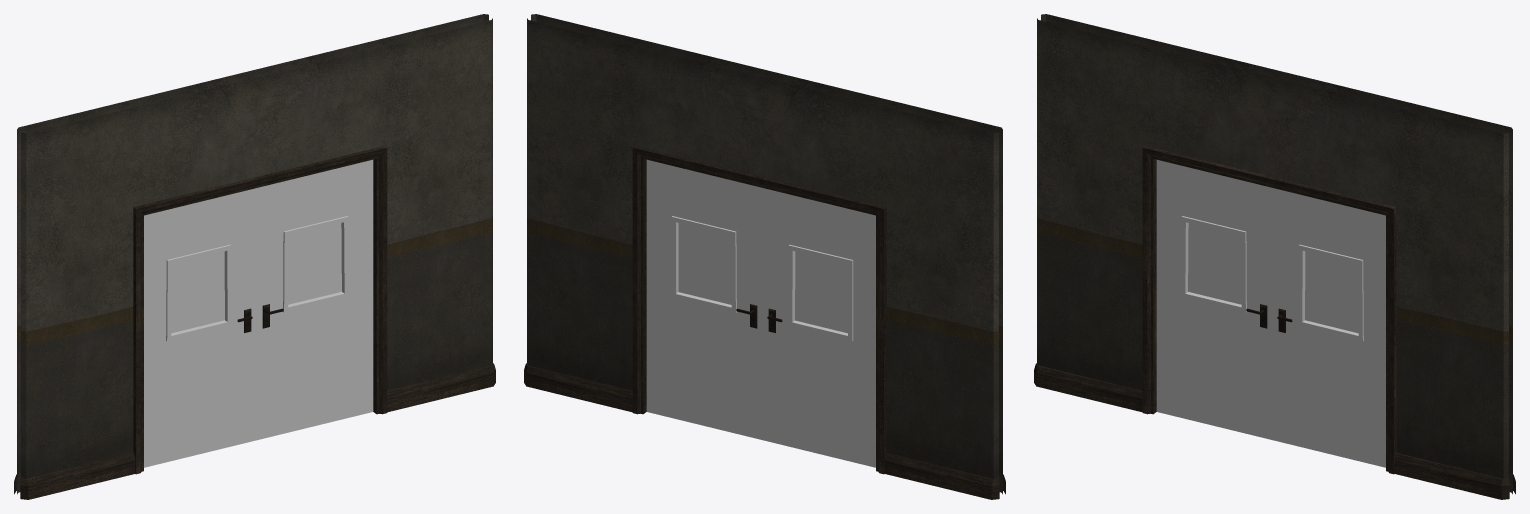
File: doorway_2_wide.obj
3 renders of one model, left to right at view 1: azimuth 30°, elevation 25°; view 2: azimuth 150°, elevation 25°; view 3: azimuth 330°, elevation 25°, orthographic.
Visible parts, largest first — view 1: doorway_2_wide, double_door_4_piece_2, double_door_4_piece_1; view 2: doorway_2_wide, double_door_4_piece_2, double_door_4_piece_1; view 3: doorway_2_wide, double_door_4_piece_1, double_door_4_piece_2.
Part boxes in pixels (left/top/right/bottom): doorway_2_wide: left=14, top=14, right=495, bottom=499; double_door_4_piece_2: left=257, top=159, right=373, bottom=440; double_door_4_piece_1: left=144, top=188, right=256, bottom=467; doorway_2_wide: left=524, top=14, right=1005, bottom=499; double_door_4_piece_2: left=646, top=159, right=762, bottom=440; double_door_4_piece_1: left=763, top=188, right=875, bottom=467; doorway_2_wide: left=1034, top=14, right=1515, bottom=499; double_door_4_piece_1: left=1156, top=159, right=1272, bottom=440; double_door_4_piece_2: left=1273, top=188, right=1385, bottom=467.
Bounding box in the file's own units: 4.09 × 3 × 0.2.
